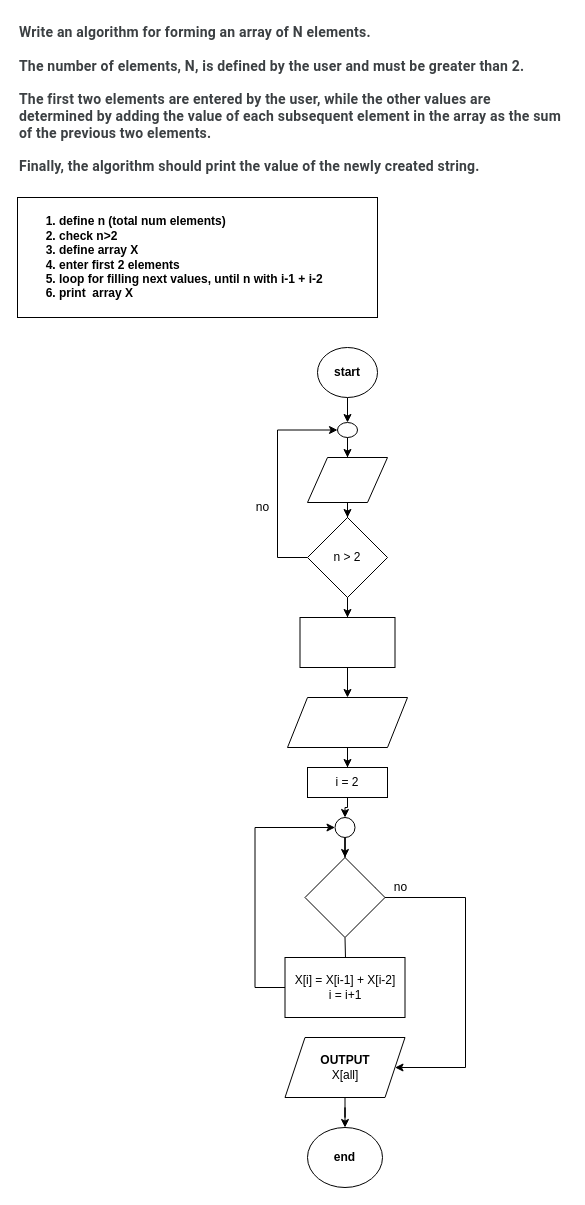
This 585x1205 diagram has some shape labels left out. Here are the shapes that lost their labels. From the top down, the centre of each, then its label:
At (x=347, y=479): "INPUT n".
At (x=347, y=642): "Initialize X[n]".
At (x=347, y=722): "INPUT X[0] X[1]".
At (x=344, y=897): "i < n".
